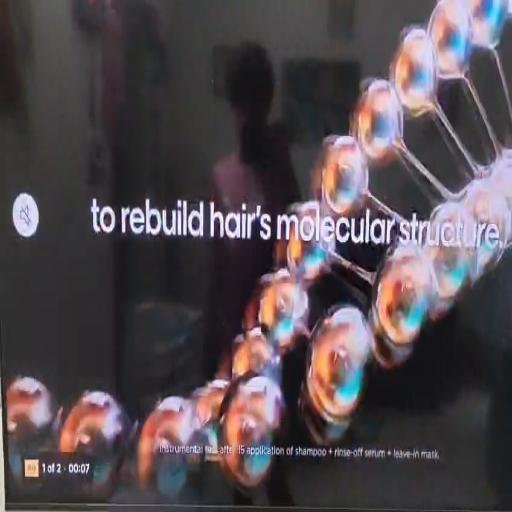ad label: (25, 458, 41, 482)
